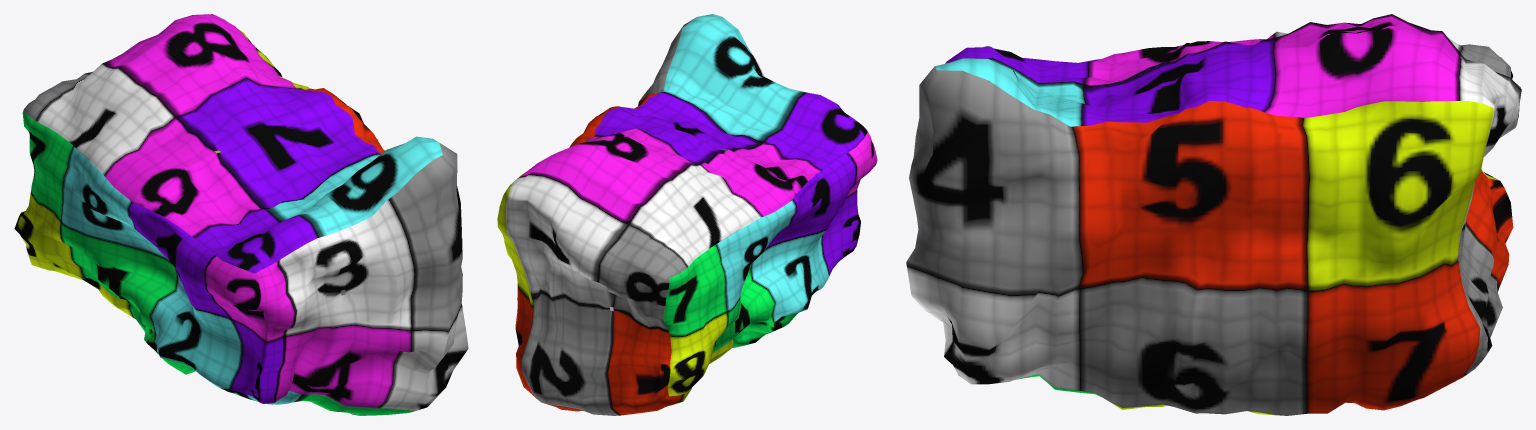
Rendered from Generic Large Cavern.fbx.
3 views of the same model, side by side, from view 1: azimuth 30°, elevation 25°; view 2: azimuth 150°, elevation 25°; view 3: azimuth 270°, elevation 25° (orthographic). The views are drawn at different scales.
Visible parts, largest first — view 1: pCube10; view 2: pCube10; view 3: pCube10.
Boxes of the visible parts, box(x1,y1,x2,y2) form: pCube10: box(14, 14, 468, 415); pCube10: box(497, 14, 877, 415); pCube10: box(906, 14, 1521, 415).
Size of the model in its own units: 955 by 1113 by 1713.
Materials: 1 (1 with a texture image).
